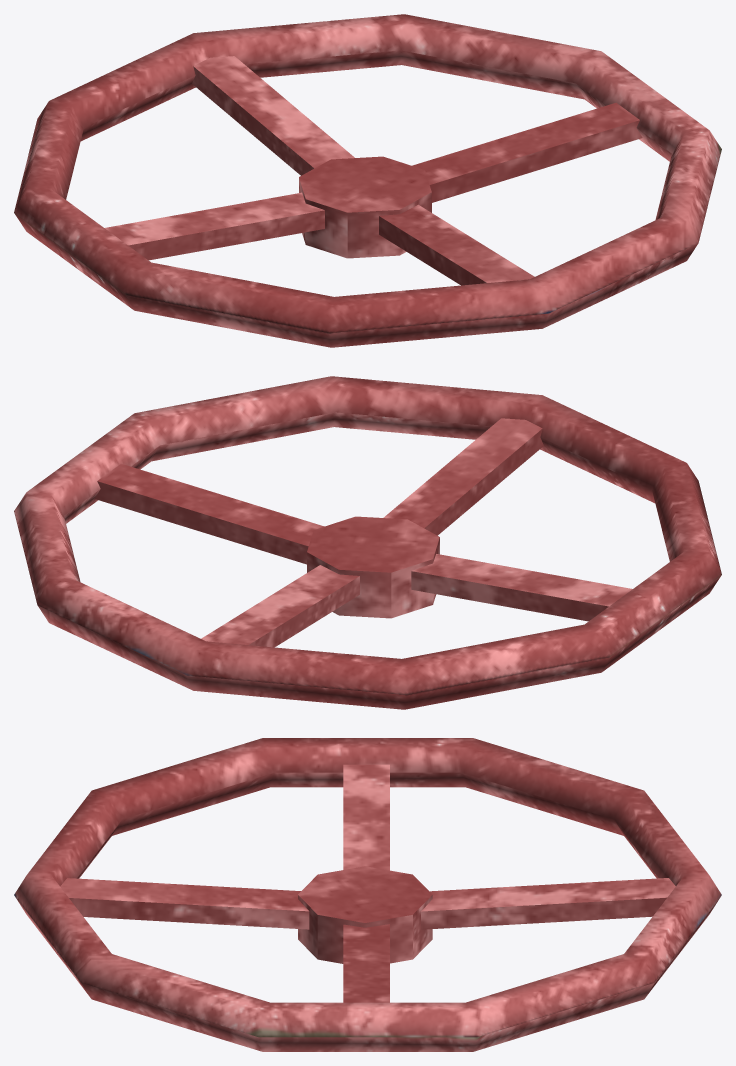
File: wheel_red.FBX
3 views of the same model, one above another, from view 1: azimuth 30°, elevation 25°; view 2: azimuth 150°, elevation 25°; view 3: azimuth 270°, elevation 25° (orthographic). The views are drawn at different scales.
Parts seen in each view (by area): view 1: Cylinder025; view 2: Cylinder025; view 3: Cylinder025.
Part boxes in pixels (bbox=[...]): Cylinder025: bbox=[14, 14, 721, 347]; Cylinder025: bbox=[14, 376, 721, 709]; Cylinder025: bbox=[14, 738, 721, 1051].
Bounding box in the file's own units: 36.95 × 4 × 38.85.
